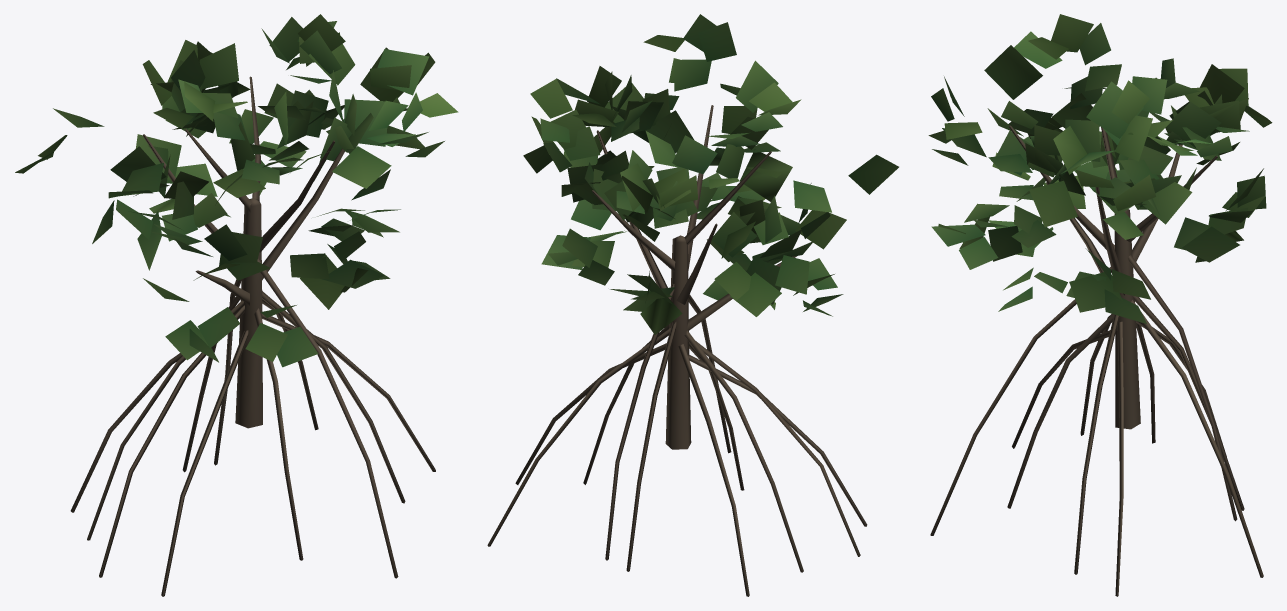
Rendered from mangrove-a.lod2.glb.
3 renders of one model, left to right at view 1: azimuth 30°, elevation 25°; view 2: azimuth 150°, elevation 25°; view 3: azimuth 270°, elevation 25°, orthographic. The views are drawn at different scales.
Size of the model in its own units: 5.28 by 6.6 by 4.38.
